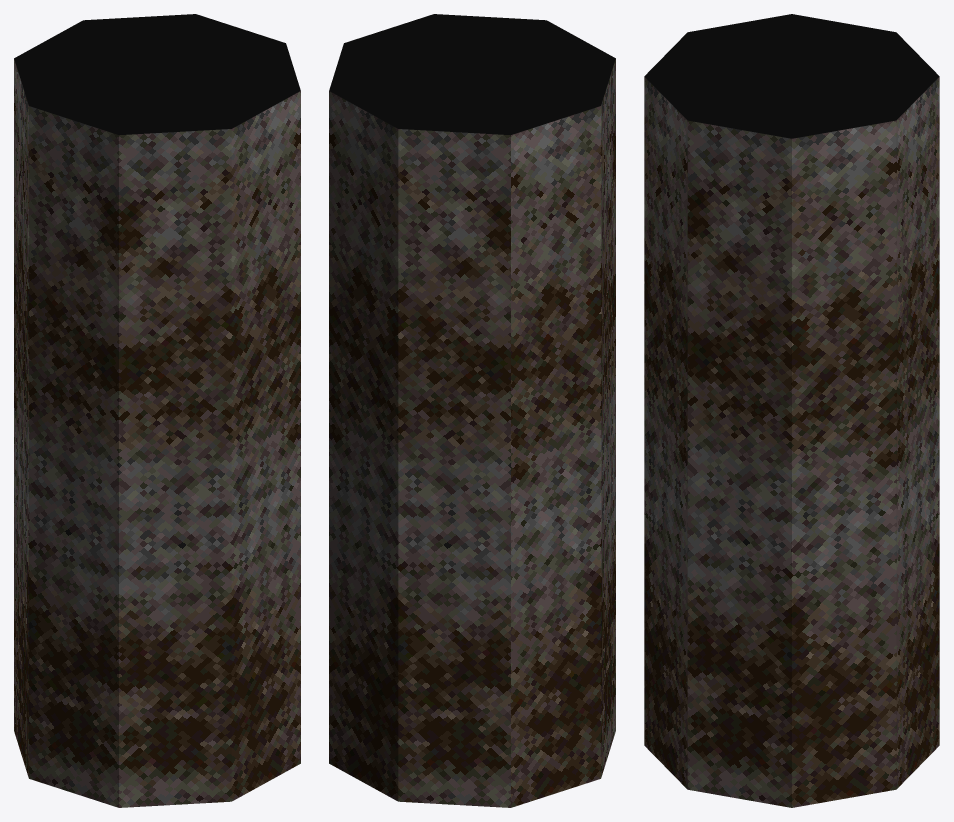
The model's file is TUBE-col.glb.
3 renders of one model, left to right at view 1: azimuth 30°, elevation 25°; view 2: azimuth 150°, elevation 25°; view 3: azimuth 270°, elevation 25°, orthographic.
Visible parts, largest first — view 1: TUBE-col; view 2: TUBE-col; view 3: TUBE-col.
Boxes of the visible parts, x1,y1,x2,y2 form: TUBE-col: (14, 14, 300, 807); TUBE-col: (329, 14, 615, 807); TUBE-col: (644, 14, 939, 807).
Bounding box in the file's own units: 2 × 5 × 2.
Materials: 1 (1 with a texture image).
